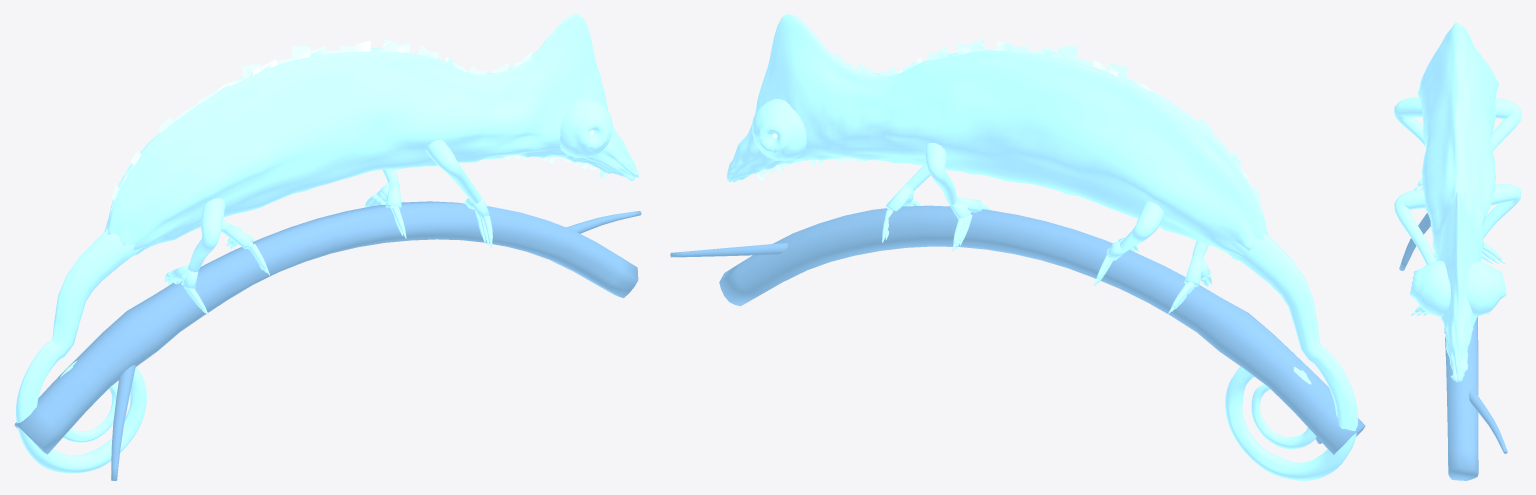
Rendered from synthwave-mascot.glb.
3 renders of one model, left to right at view 1: azimuth 30°, elevation 25°; view 2: azimuth 150°, elevation 25°; view 3: azimuth 270°, elevation 25°, orthographic. The views are drawn at different scales.
Visible parts, largest first — view 1: MascotBody, Mascot_HoloBranch, MascotTail, Mascot_HoloBody, Mascot_HoloCrest, EyeR; view 2: MascotBody, Mascot_HoloBranch, MascotTail, Mascot_HoloBody, Mascot_HoloCrest, EyeL; view 3: MascotBody, Mascot_HoloBranch, Mascot_HoloBody, EyeR, EyeL.
Part boxes in pixels (box(x1,y1,x2,y2)): MascotBody: box(104, 14, 638, 255); Mascot_HoloBranch: box(14, 201, 641, 480); MascotTail: box(16, 229, 146, 473); Mascot_HoloBody: box(164, 140, 492, 315); Mascot_HoloCrest: box(108, 17, 596, 214); EyeR: box(559, 97, 612, 157); MascotBody: box(726, 14, 1268, 260); Mascot_HoloBranch: box(670, 205, 1365, 454); MascotTail: box(1225, 233, 1357, 480); Mascot_HoloBody: box(882, 143, 1211, 314); Mascot_HoloCrest: box(751, 17, 1263, 217); EyeL: box(752, 99, 806, 160); MascotBody: box(1417, 22, 1498, 382); Mascot_HoloBranch: box(1399, 213, 1507, 480); Mascot_HoloBody: box(1394, 97, 1521, 316); EyeR: box(1409, 260, 1450, 316); EyeL: box(1466, 261, 1506, 316).
Bounding box in the file's own units: 1.22 × 0.672 × 0.2273.
